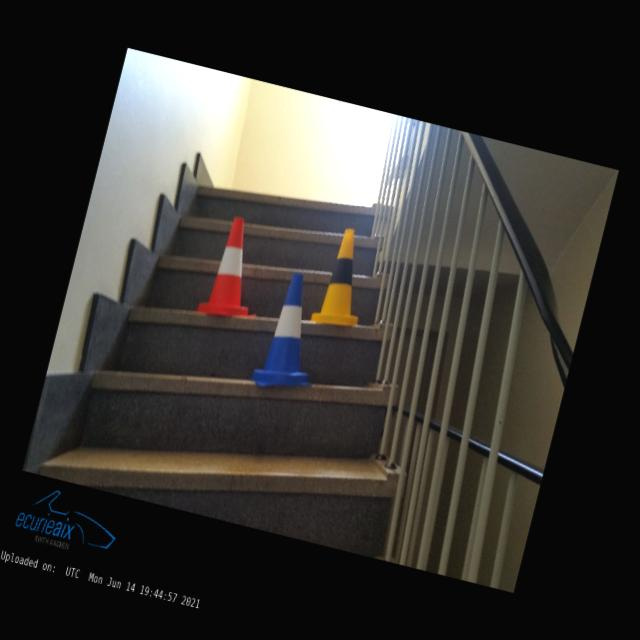blue_cone: (250, 269, 336, 398)
orange_cone: (197, 212, 277, 324)
yellow_cone: (310, 224, 379, 330)
